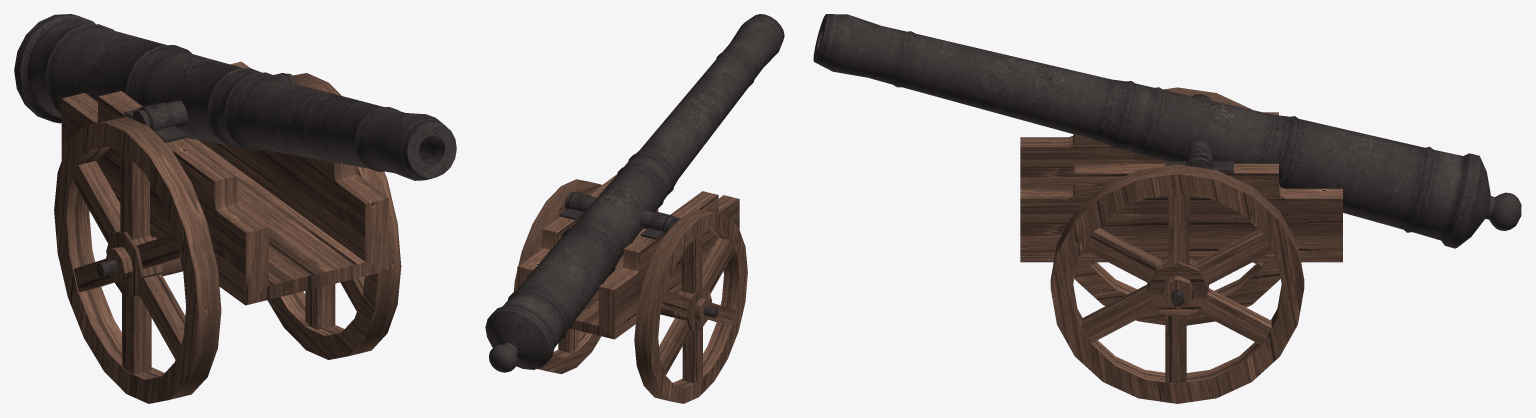
File: hongyidapao.FBX
3 renders of one model, left to right at view 1: azimuth 30°, elevation 25°; view 2: azimuth 150°, elevation 25°; view 3: azimuth 270°, elevation 25°, orthographic. The views are drawn at different scales.
Visible parts, largest first — view 1: paotai, pao, lunzi_r, lunzi_l; view 2: pao, lunzi_r, paotai, lunzi_l; view 3: pao, lunzi_l, paotai, lunzi_r.
Boxes of the visible parts, x1,y1,x2,y2 form: paotai: [61, 61, 388, 305]; pao: [14, 14, 456, 180]; lunzi_r: [54, 117, 221, 403]; lunzi_l: [267, 73, 401, 359]; pao: [485, 14, 784, 372]; lunzi_r: [634, 209, 747, 403]; paotai: [517, 174, 739, 339]; lunzi_l: [514, 179, 601, 374]; pao: [813, 14, 1521, 248]; lunzi_l: [1050, 164, 1304, 403]; paotai: [1020, 94, 1342, 309]; lunzi_r: [1074, 87, 1280, 325].
Bounding box in the file's own units: 132 × 195 × 363.
